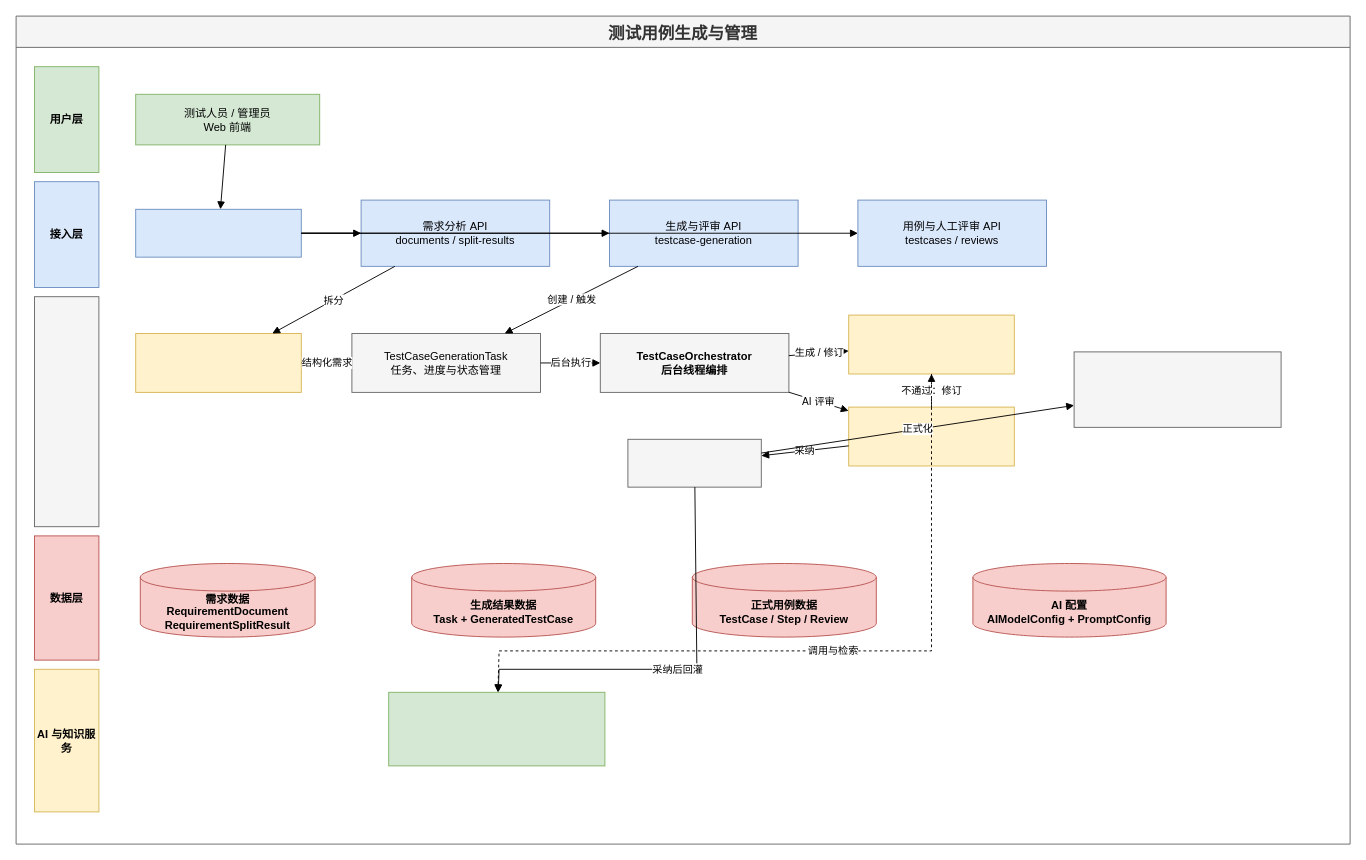
Some shapes in this 1366 by 860 pixel diagram are drawn without their labels. The centre of each missing label's shape, as x and y in pixels:
AI 服务 LLM + Qdrant 知识库 生成检索与采纳回灌: (x=496, y=728)
Django REST API: (x=218, y=232)
ReviewerAgent AI 评审与反馈: (x=931, y=436)
SplitterAgent 需求结构化拆分: (x=218, y=362)
WriterAgent 测试用例生成与修订: (x=931, y=344)
批量采纳 adopted: (x=694, y=462)
核心服务层: (x=66, y=411)
正式用例管理 版本、步骤、附件、执行、人工评审: (x=1177, y=389)
